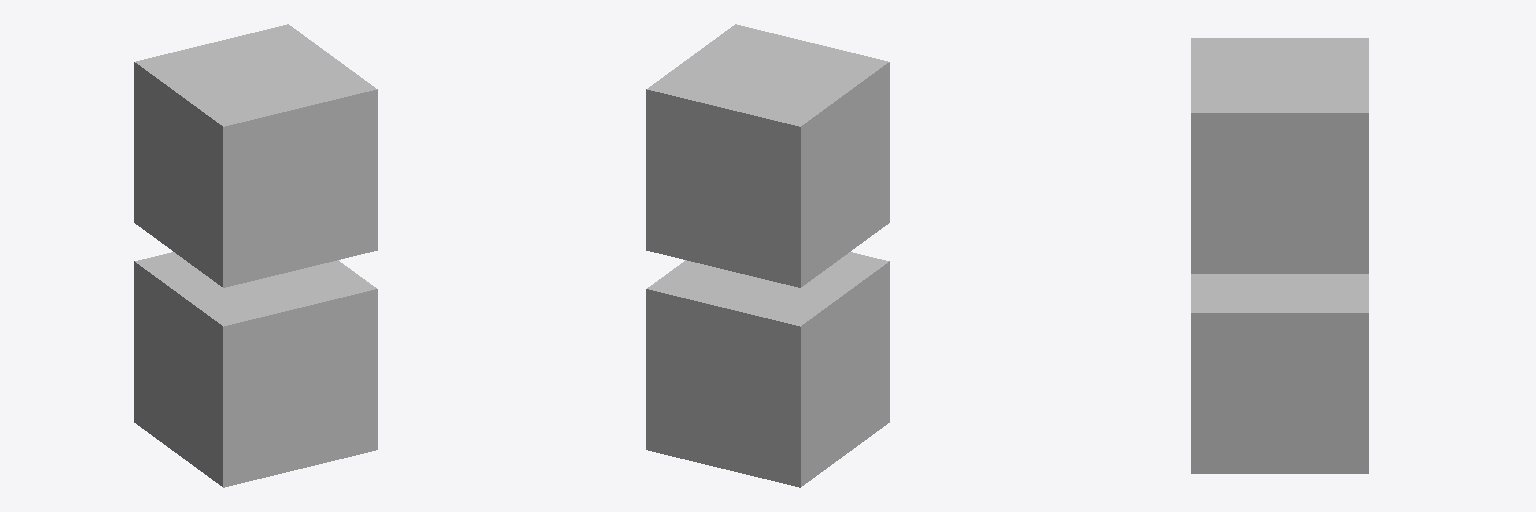
Rendered from maya_2.obj.
3 renders of one model, left to right at view 1: azimuth 30°, elevation 25°; view 2: azimuth 150°, elevation 25°; view 3: azimuth 270°, elevation 25°, orthographic.
Parts seen in each view (by area): view 1: group1 pCube2, pCube1 group1; view 2: group1 pCube2, pCube1 group1; view 3: group1 pCube2, pCube1 group1.
Part boxes in pixels (x1,y1,x2,y2): group1 pCube2: (134, 24, 377, 287); pCube1 group1: (134, 252, 377, 487); group1 pCube2: (646, 24, 889, 287); pCube1 group1: (646, 252, 889, 487); group1 pCube2: (1191, 38, 1368, 273); pCube1 group1: (1191, 274, 1368, 473).
Size of the model in its own units: 1 by 2.24 by 1.